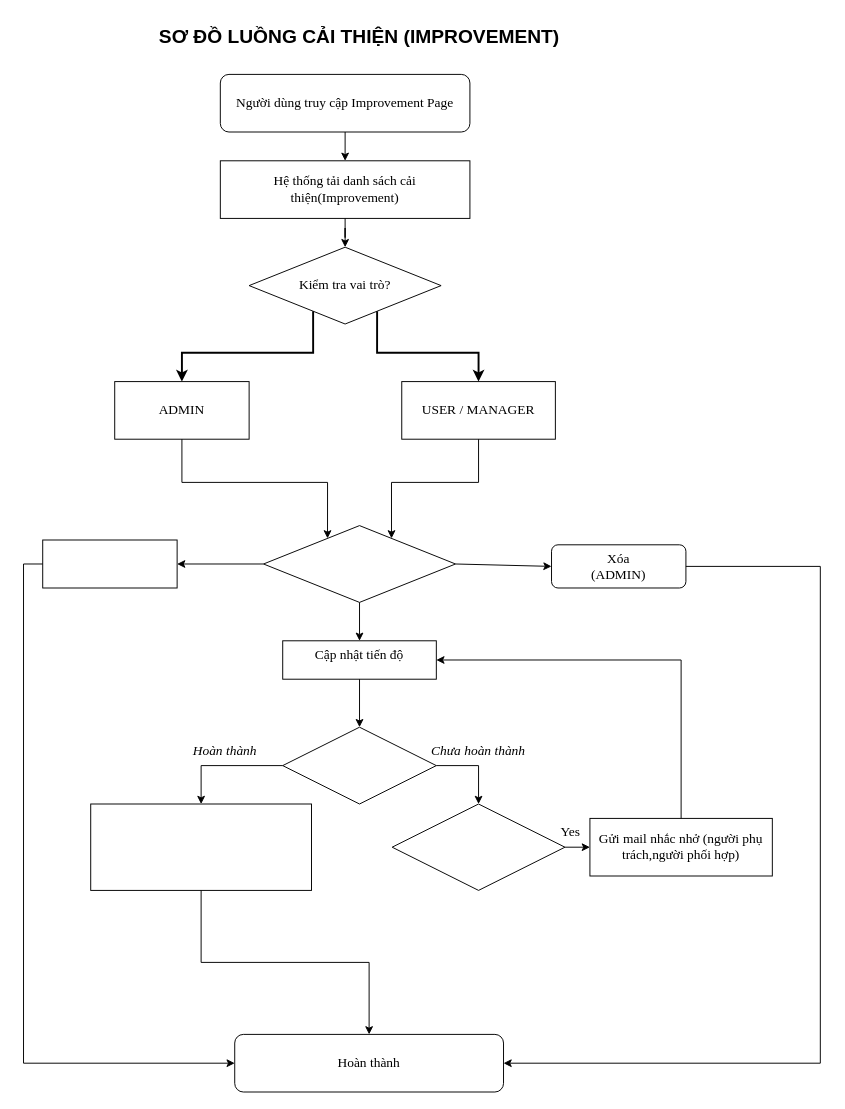
The diagram is 845 pixels wide and 1109 high, and some of its shapes have lost their labels. Here are the shapes that lost their labels. From the top down, the box of each, then its label:
(42, 539, 177, 588): Xem / thêm / sửa
(263, 525, 456, 602): Chọn hành động?
(282, 726, 436, 804): Kiểm tra trạng thái sau khi cập nhật tiến độ
(90, 803, 312, 890): Gửi email thông báo hoàn thành cho quản lý, người phụ trách, người phối hợp
(391, 803, 565, 890): Quá thời gian dự kiến HT?
